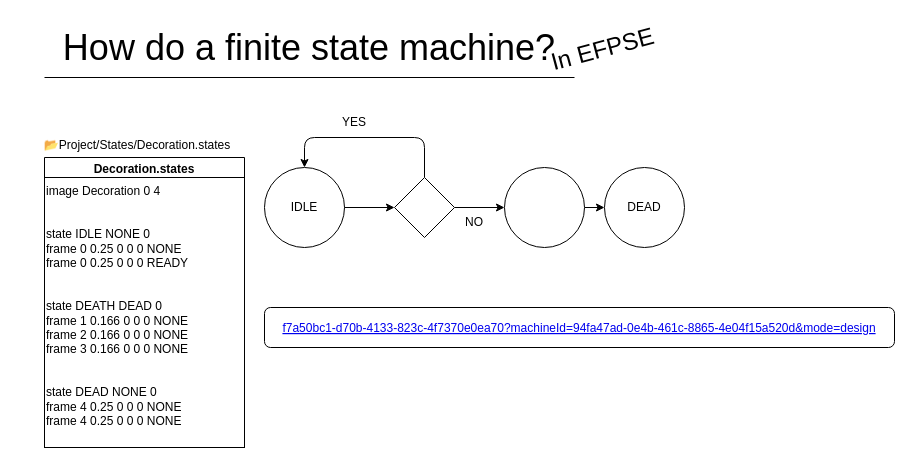
Image size: 912x465. Some labels were removed from this diagram. The shapes that lost their labels are listed below. From the top down, each one's centre as x and y in pixels, then its label:
At (x=424, y=207): "HP>1".
At (x=544, y=207): "DEATH".
